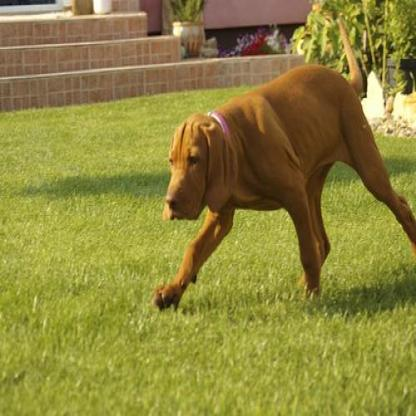vizsla: (150, 14, 414, 309)
